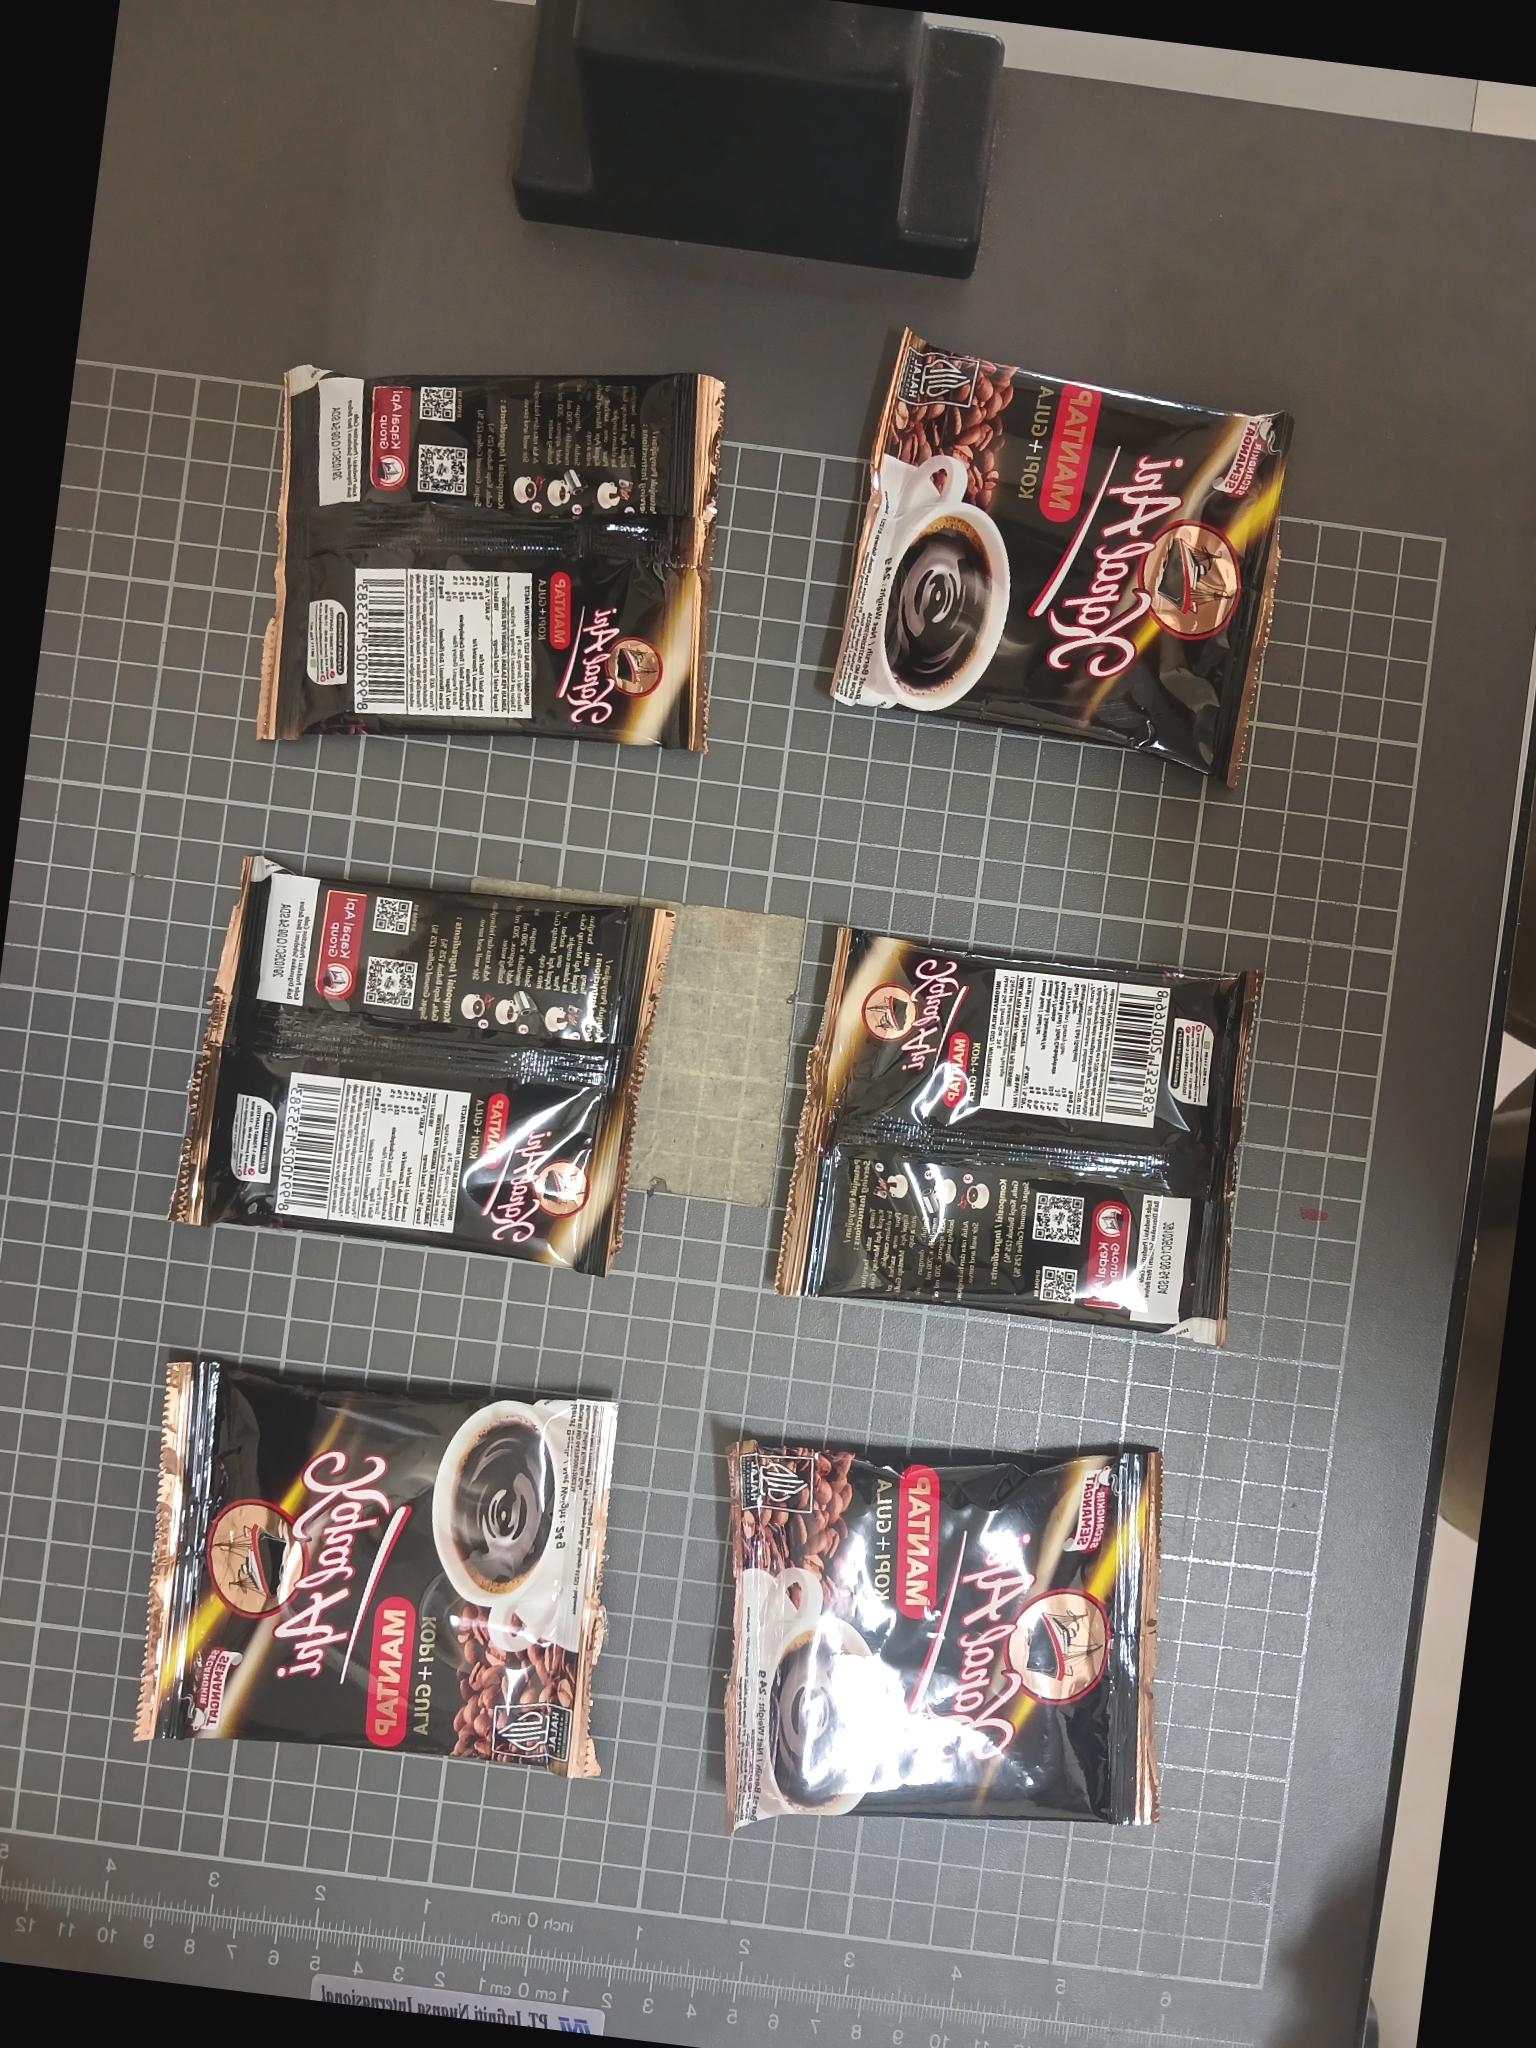back: (171, 855, 679, 1279), (770, 922, 1260, 1350), (257, 364, 724, 753)
front: (828, 324, 1305, 790), (131, 1356, 620, 1779), (724, 1437, 1165, 1829)
